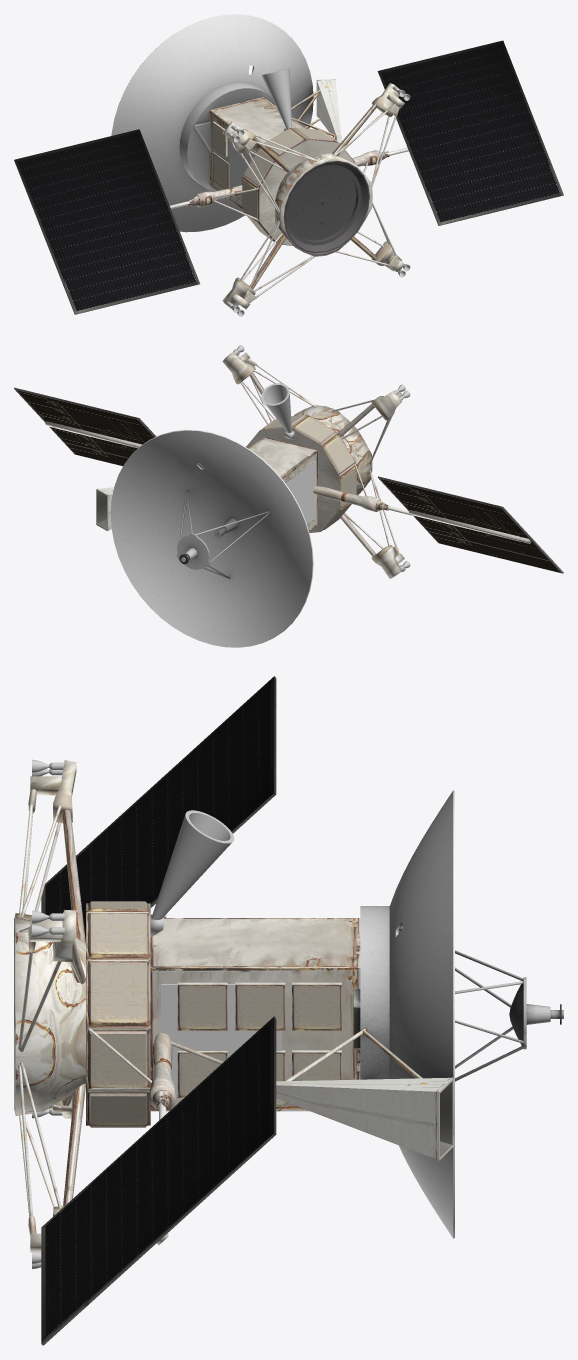
The model's file is magellan.dae.
3 renders of one model, top to bottom at view 1: azimuth 30°, elevation 25°; view 2: azimuth 150°, elevation 25°; view 3: azimuth 270°, elevation 25°, orthographic. The views are drawn at different scales.
Parts seen in each view (by area): view 1: shiny_panel, tex_01, dish_etc, aluminum, _root, aluminum_002; view 2: dish_etc, tex_01, _root, aluminum; view 3: tex_01, shiny_panel, dish_etc, aluminum, _root, aluminum_002.
Boxes of the visible parts, left/top/right/bottom form: shiny_panel: left=14, top=40, right=563, bottom=314; tex_01: left=14, top=71, right=563, bottom=314; dish_etc: left=111, top=14, right=313, bottom=232; aluminum: left=261, top=68, right=291, bottom=129; _root: left=229, top=140, right=255, bottom=200; aluminum_002: left=226, top=86, right=410, bottom=316; dish_etc: left=110, top=429, right=313, bottom=647; tex_01: left=14, top=351, right=563, bottom=578; _root: left=285, top=460, right=315, bottom=524; aluminum: left=261, top=383, right=291, bottom=432; tex_01: left=14, top=676, right=453, bottom=1345; shiny_panel: left=41, top=676, right=274, bottom=1343; dish_etc: left=353, top=790, right=563, bottom=1238; aluminum: left=151, top=810, right=234, bottom=919; _root: left=161, top=984, right=282, bottom=1095; aluminum_002: left=32, top=759, right=164, bottom=1269.
Size of the model in its own units: 8.9 by 4.53 by 3.7.
Materials: 4 (3 with a texture image).
